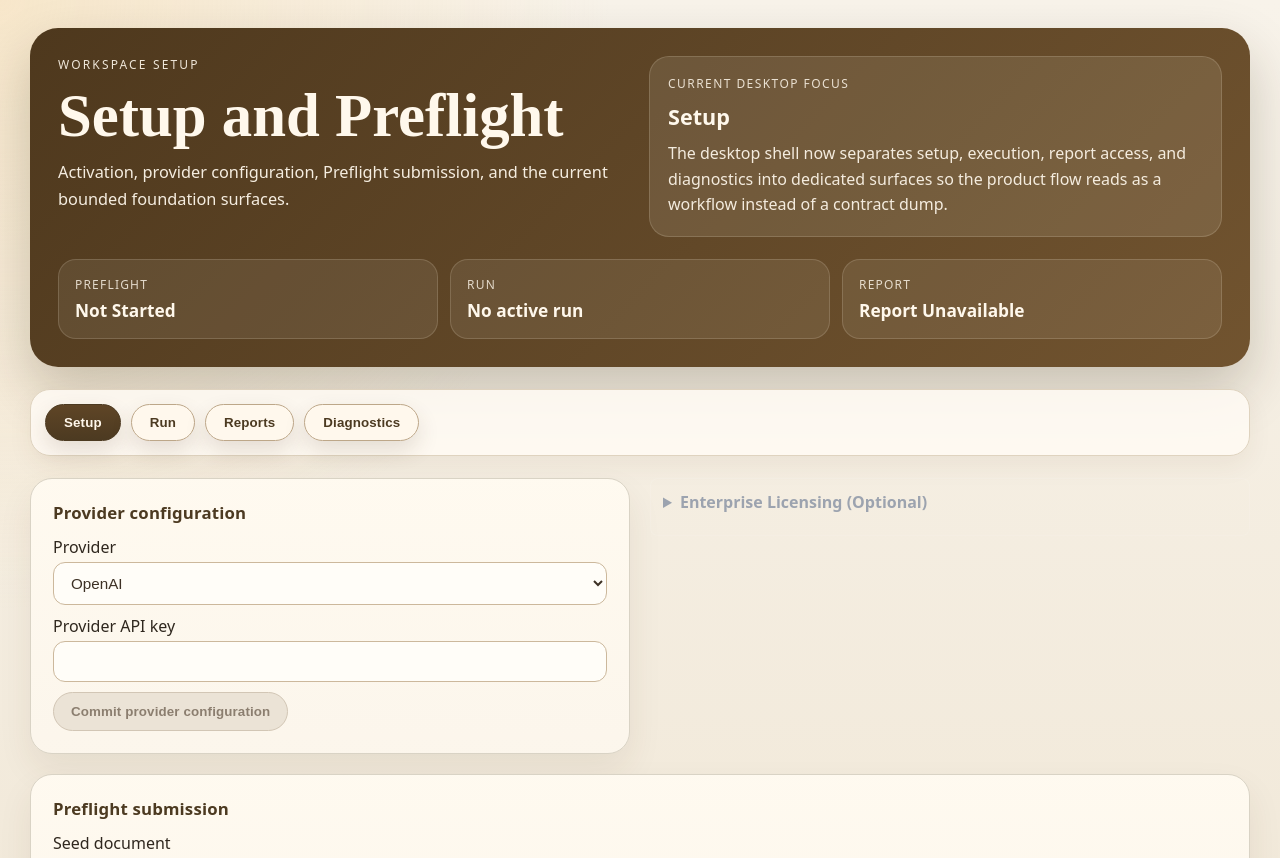
Test: App Wave 10 diagnostics › renders the shell-owned updater and runtime-delivery contract foundation on the diagnostics screen
Click the button "Diagnostics" at (362, 422), box [304,404,419,441]
(page scrolled)
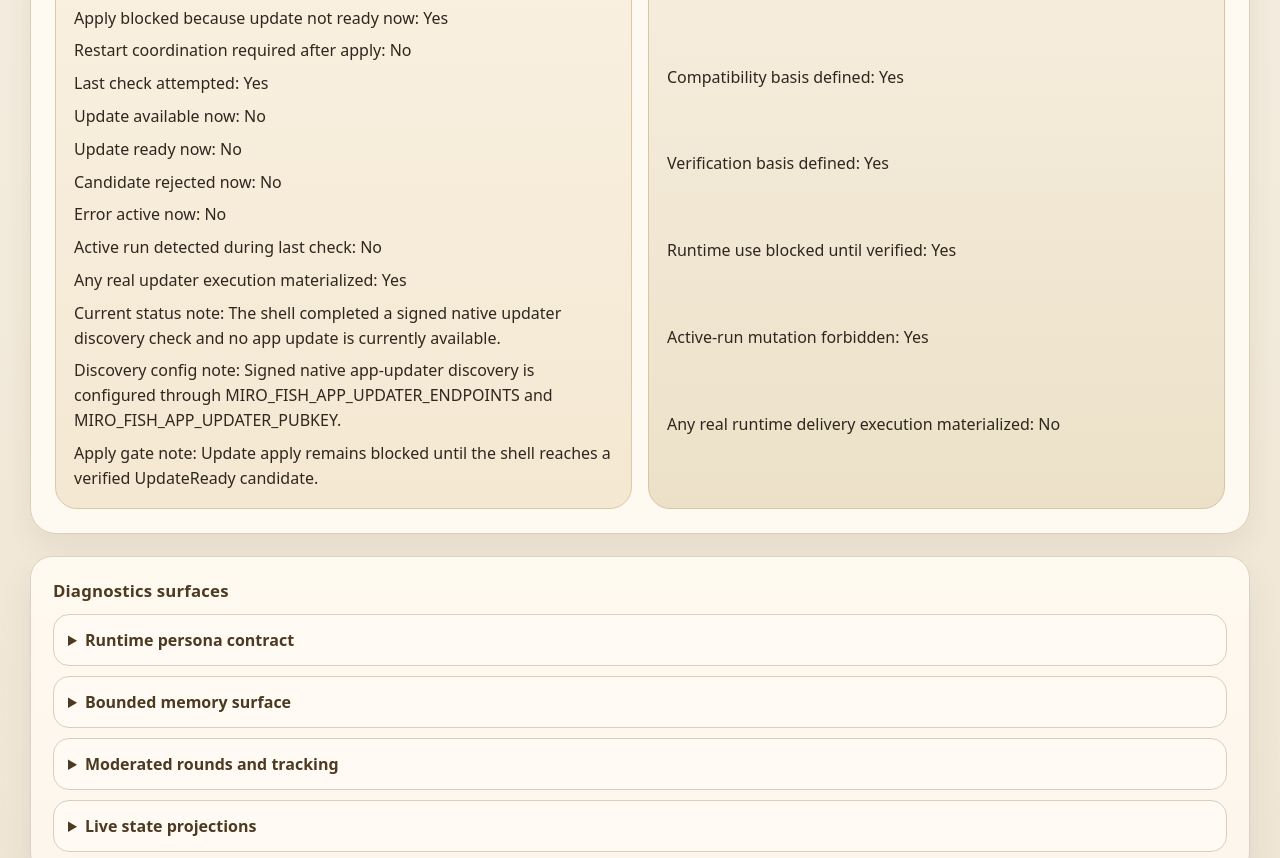
Result: the text "Any real updater execution materialized: Yes" is shown at [74,269,407,291]
Result: the text "Any real runtime delivery execution materialized: No" is shown at [667,413,1060,435]
